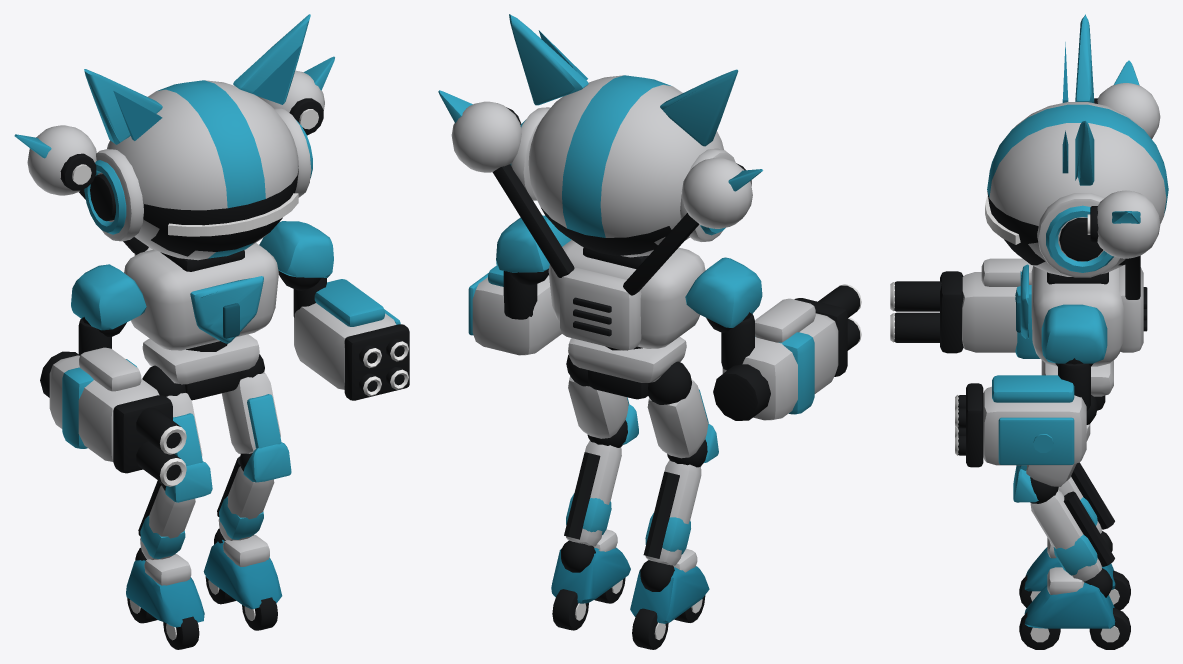
Rendered from scout.fbx.
The picture shows the model from 3 angles, left to right: view 1: azimuth 30°, elevation 25°; view 2: azimuth 150°, elevation 25°; view 3: azimuth 270°, elevation 25°; orthographic projection. The views are drawn at different scales.
Parts seen in each view (by area): view 1: Head, Torso, GunArm, BombArm, LegL, LegR, Pod, HeadGlow, BombArmGlow, GunArmGlow, PodGlow; view 2: Head, GunArm, Torso, LegR, Pod, LegL, BombArm; view 3: Head, BombArm, LegL, GunArm, Torso, Pod, LegR, HeadGlow, LegLGlow.
Part boxes in pixels (x1=…): Head: x1=84, y1=14, x2=312, y2=260; Torso: x1=124, y1=243, x2=278, y2=400; GunArm: x1=40, y1=264, x2=180, y2=483; BombArm: x1=259, y1=221, x2=409, y2=400; LegL: x1=203, y1=354, x2=291, y2=630; LegR: x1=126, y1=365, x2=212, y2=649; Pod: x1=14, y1=56, x2=334, y2=254; HeadGlow: x1=168, y1=193, x2=298, y2=236; BombArmGlow: x1=363, y1=341, x2=408, y2=396; GunArmGlow: x1=160, y1=425, x2=186, y2=486; PodGlow: x1=72, y1=109, x2=318, y2=184; Head: x1=509, y1=14, x2=738, y2=257; GunArm: x1=685, y1=257, x2=859, y2=420; Torso: x1=548, y1=240, x2=705, y2=399; LegR: x1=630, y1=361, x2=718, y2=649; Pod: x1=438, y1=90, x2=762, y2=295; LegL: x1=551, y1=354, x2=638, y2=630; BombArm: x1=468, y1=215, x2=571, y2=355; Head: x1=987, y1=14, x2=1168, y2=277; BombArm: x1=958, y1=304, x2=1107, y2=467; LegL: x1=1013, y1=395, x2=1130, y2=649; GunArm: x1=894, y1=258, x2=1039, y2=358; Torso: x1=1016, y1=264, x2=1147, y2=410; Pod: x1=1090, y1=60, x2=1160, y2=299; LegR: x1=1019, y1=462, x2=1130, y2=610; HeadGlow: x1=985, y1=195, x2=1020, y2=244; LegLGlow: x1=1030, y1=626, x2=1119, y2=642.
Bounding box in the file's own units: 5.25 × 9 × 4.05.
